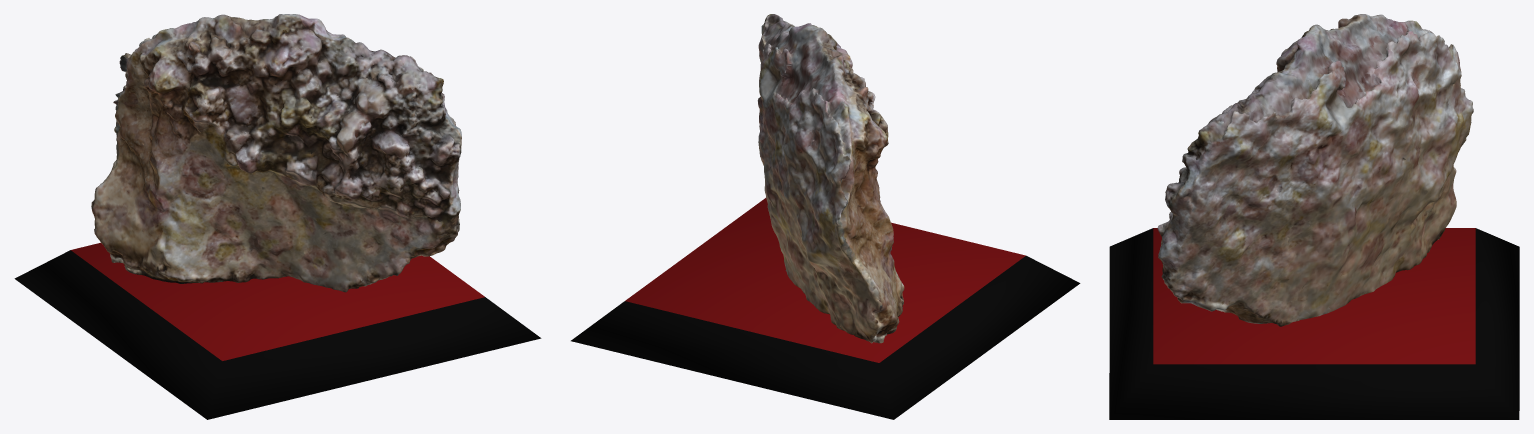
Rendered from Skarn_Granate.glb.
3 renders of one model, left to right at view 1: azimuth 30°, elevation 25°; view 2: azimuth 150°, elevation 25°; view 3: azimuth 270°, elevation 25°, orthographic. The views are drawn at different scales.
Visible parts, largest first — view 1: texturedMesh; view 2: texturedMesh; view 3: texturedMesh.
Boxes of the visible parts, x1,y1,x2,y2 form: texturedMesh: [14, 14, 541, 419]; texturedMesh: [571, 14, 1080, 419]; texturedMesh: [1109, 14, 1519, 419].
Bounding box in the file's own units: 10 × 8.35 × 10.
4 materials, 2 textured.
